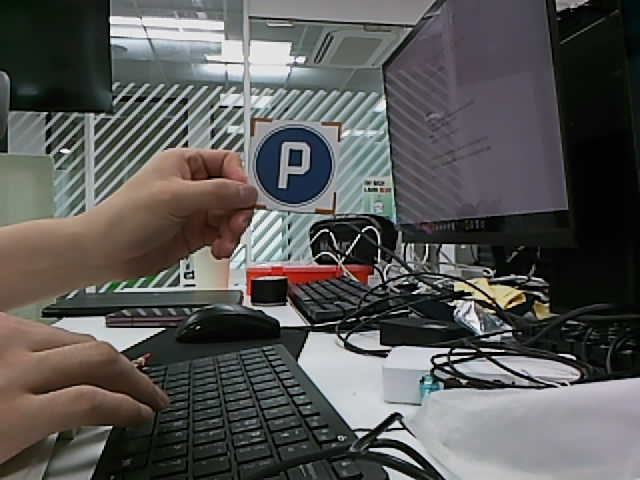park: (252, 124, 335, 207)
